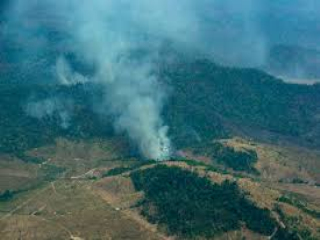smoke: (91, 57, 178, 165), (221, 34, 308, 94), (26, 54, 86, 131)
